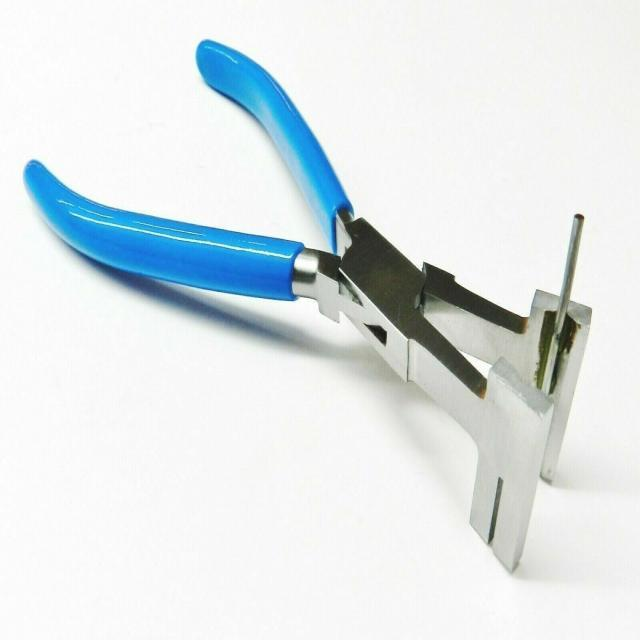pliers: (14, 26, 599, 584)
